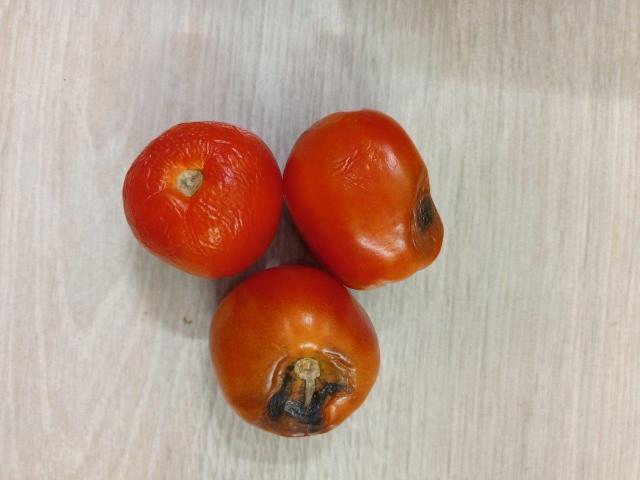defect: (205, 266, 385, 446), (284, 108, 447, 290), (120, 118, 284, 280)
